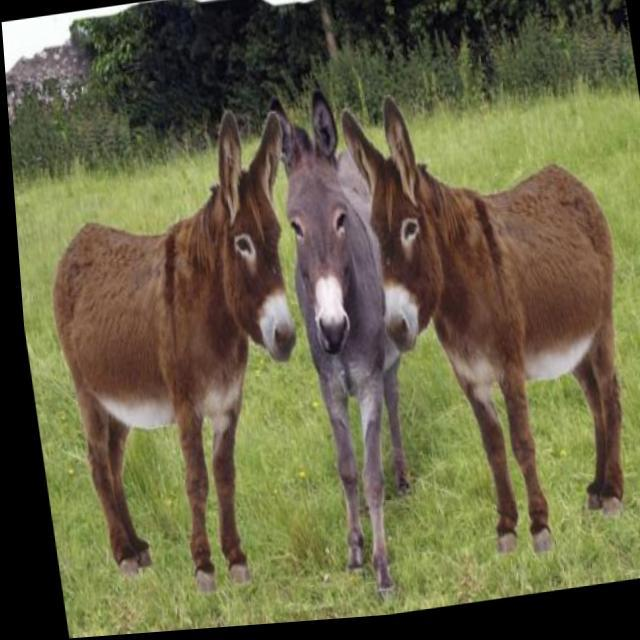Donkey: (22, 106, 336, 618), (334, 71, 640, 590), (262, 81, 430, 607)
